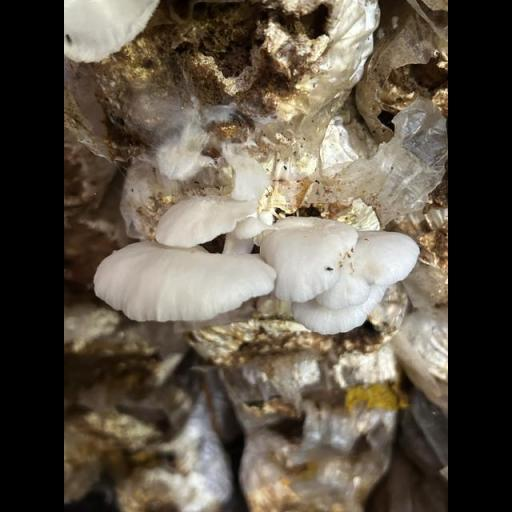White Oyster Mushroom: (82, 179, 423, 340)
